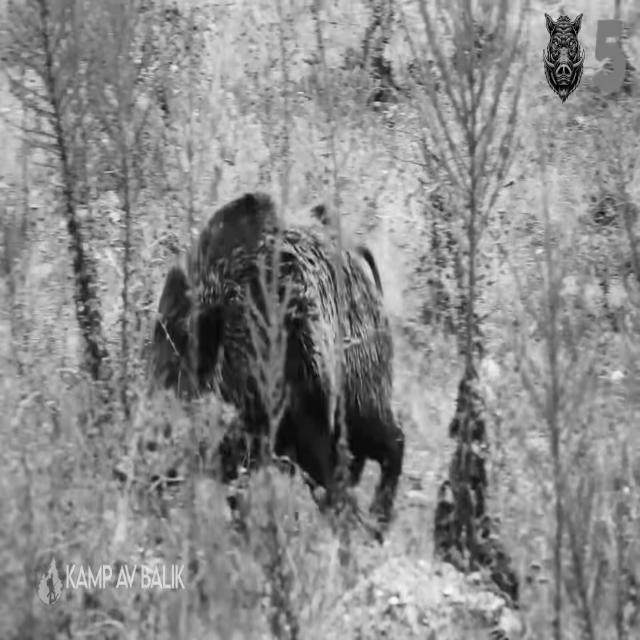boar: (149, 193, 404, 519), (544, 11, 586, 100)
